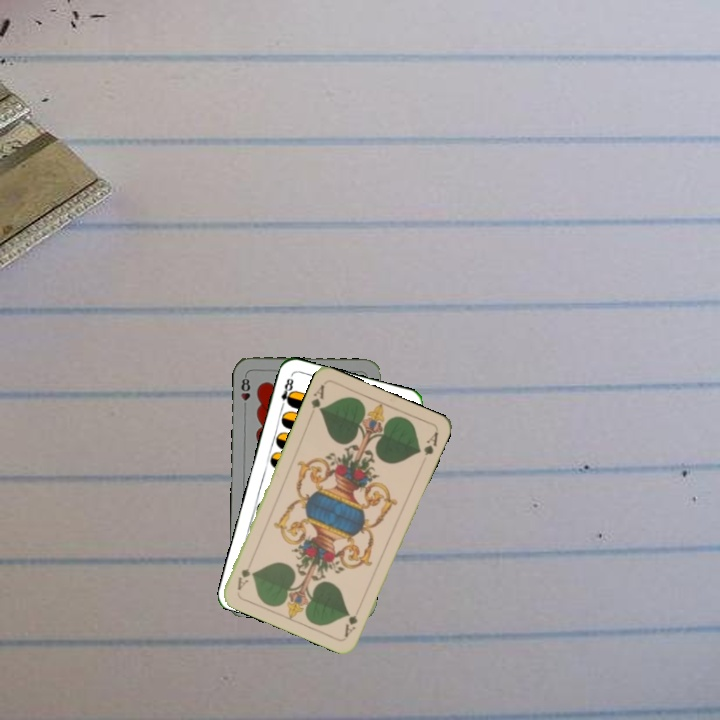E8: (277, 374, 297, 412)
GA: (340, 601, 364, 640), (307, 380, 328, 414)
H8: (237, 371, 253, 412)
